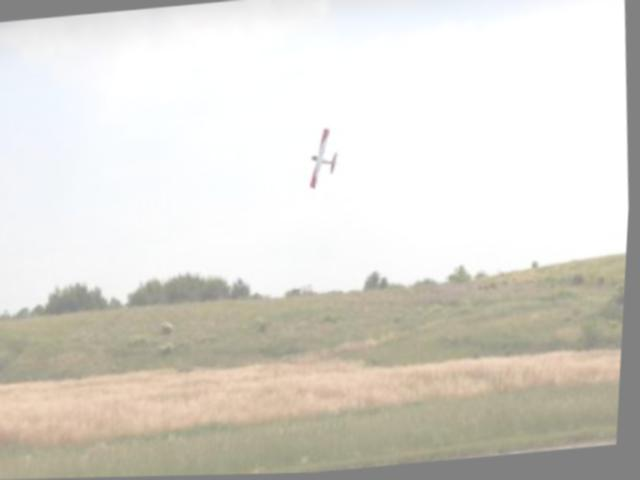uav: (306, 124, 342, 191)
